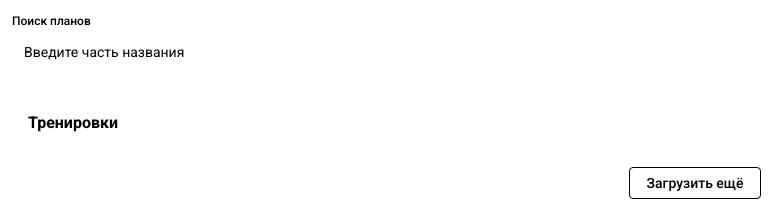
Test case: WorkPlansList › FE-05: догружает страницу без дубликатов
The image size is (778, 217).
Expected: the link "Тренировки" is shown, [28, 113, 118, 132]
Click the button "Загрузить ещё" at (695, 183), box [630, 167, 760, 199]
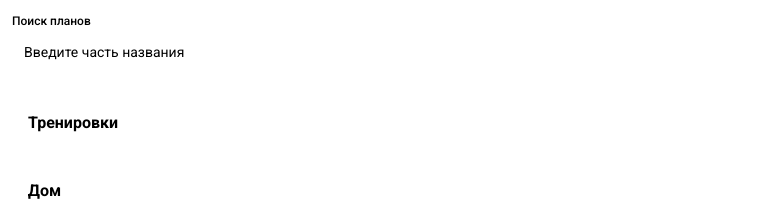
Expected: the link "Дом" is shown, [28, 181, 61, 200]
Expected: the number of links "Тренировки" is 1, [28, 113, 118, 132]
